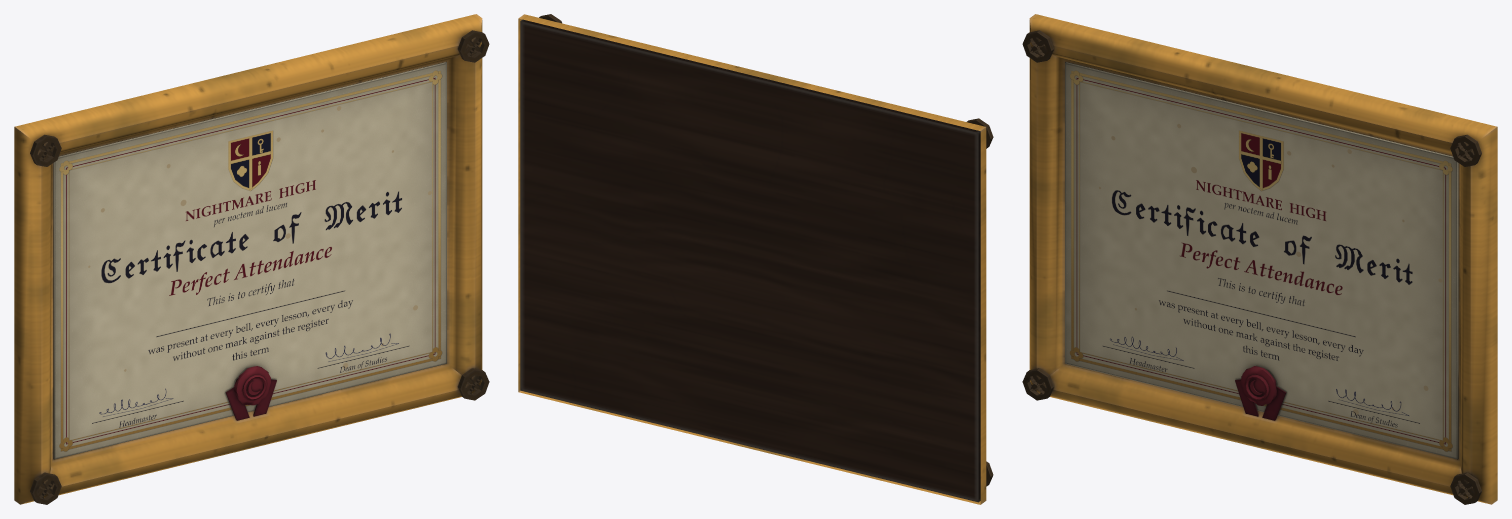
The model's file is CertificatePerfectAttendance.fbx.
The picture shows the model from 3 angles, left to right: view 1: azimuth 30°, elevation 25°; view 2: azimuth 150°, elevation 25°; view 3: azimuth 330°, elevation 25°; orthographic projection.
Visible parts, largest first — view 1: CertificatePerfectAttendance; view 2: CertificatePerfectAttendance; view 3: CertificatePerfectAttendance.
Boxes of the visible parts, x1,y1,x2,y2 form: CertificatePerfectAttendance: [14, 14, 489, 504]; CertificatePerfectAttendance: [518, 14, 993, 504]; CertificatePerfectAttendance: [1022, 14, 1497, 504].
Size of the model in its own units: 229 by 177 by 13.4.
